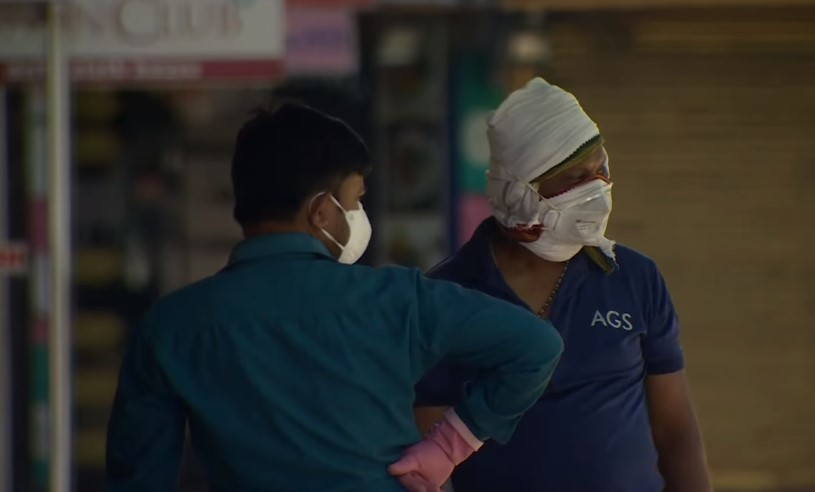face_with_mask: (240, 110, 375, 266), (486, 81, 613, 244)
